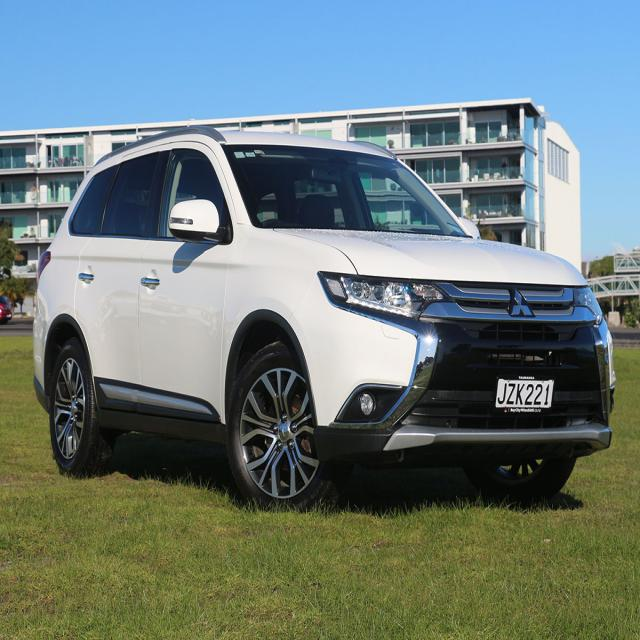light_vehicle: (33, 128, 616, 511)
